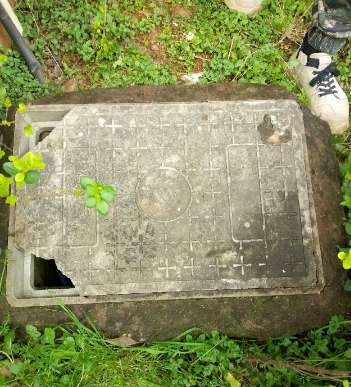well: (8, 98, 329, 303)
